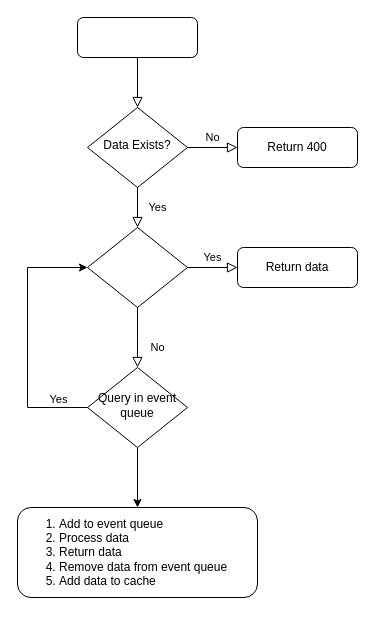
This 375x618 diagram has some shape labels left out. The box of each missing label's shape, as (x1, y1, x2, y2) in pixels:
Query in Cache?: (86, 226, 188, 308)
XPATH Query: (76, 16, 198, 58)
